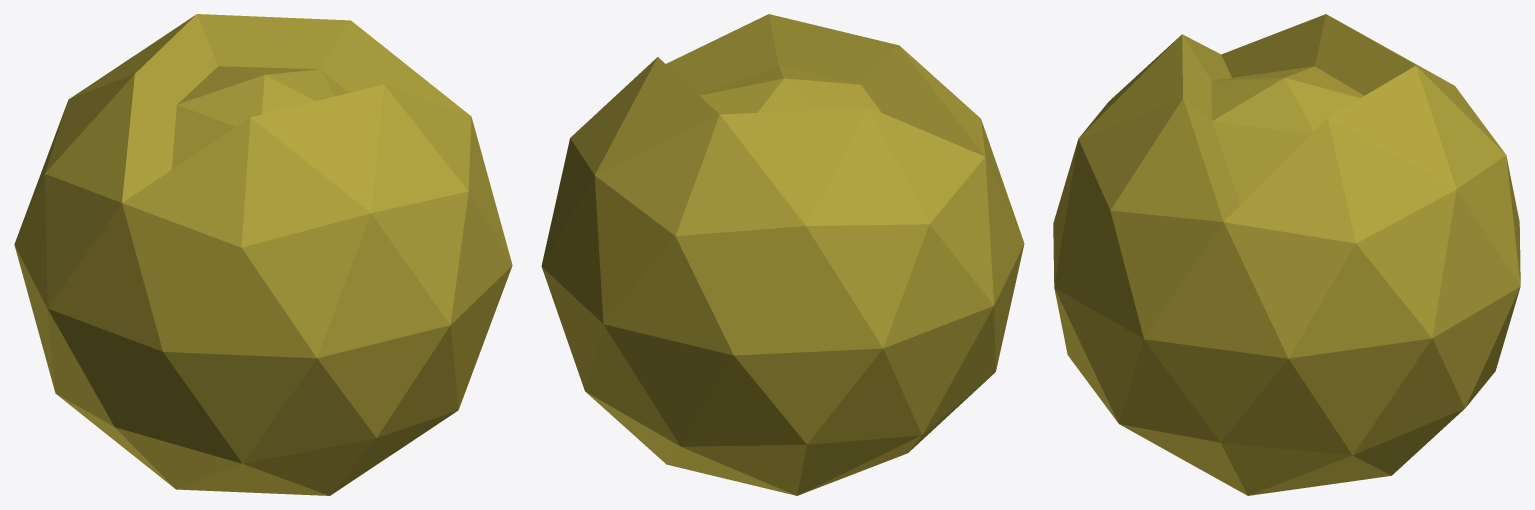
File: SM_PolypEye.fbx
3 renders of one model, left to right at view 1: azimuth 30°, elevation 25°; view 2: azimuth 150°, elevation 25°; view 3: azimuth 270°, elevation 25°, orthographic. The views are drawn at different scales.
Parts seen in each view (by area): view 1: SM_PolypEye; view 2: SM_PolypEye; view 3: SM_PolypEye.
Part boxes in pixels (<box>): SM_PolypEye: <box>14,14,512,495</box>; SM_PolypEye: <box>541,14,1024,495</box>; SM_PolypEye: <box>1053,14,1520,495</box>.
Bounding box in the file's own units: 28.79 × 26.64 × 27.44.
